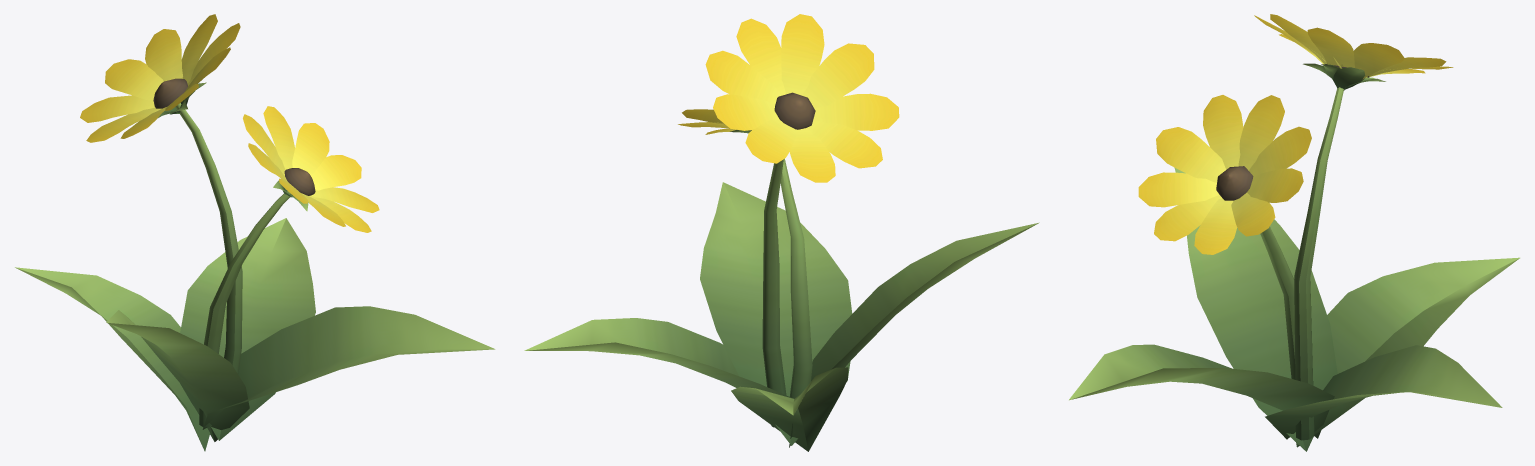
The model's file is YellowCosmos.gltf.
3 views of the same model, side by side, from view 1: azimuth 30°, elevation 25°; view 2: azimuth 150°, elevation 25°; view 3: azimuth 270°, elevation 25° (orthographic). The views are drawn at different scales.
Visible parts, largest first — view 1: default15_Material_0; view 2: default15_Material_0; view 3: default15_Material_0.
Part boxes in pixels (bbox=[...]): default15_Material_0: bbox=[15, 14, 495, 451]; default15_Material_0: bbox=[524, 14, 1039, 451]; default15_Material_0: bbox=[1069, 14, 1519, 451].
Size of the model in its own units: 1.78 by 2.01 by 1.85.
1 material, 1 textured.
